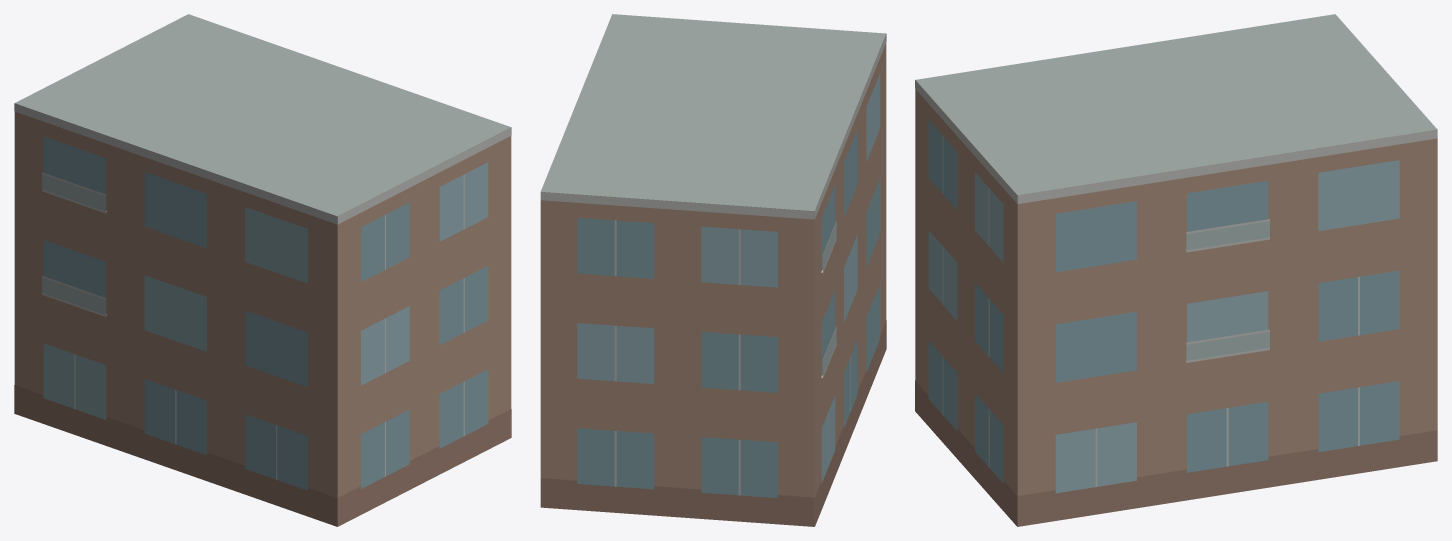
File: survey-upis-32714238.glb
3 renders of one model, left to right at view 1: azimuth 30°, elevation 25°; view 2: azimuth 150°, elevation 25°; view 3: azimuth 270°, elevation 25°, orthographic. The views are drawn at different scales.
Visible parts, largest first — view 1: survey-upis-32714238.tmp; view 2: survey-upis-32714238.tmp; view 3: survey-upis-32714238.tmp.
Boxes of the visible parts, left/top/right/bottom form: survey-upis-32714238.tmp: left=14, top=14, right=511, bottom=526; survey-upis-32714238.tmp: left=540, top=14, right=886, bottom=526; survey-upis-32714238.tmp: left=915, top=14, right=1437, bottom=526.
Size of the model in its own units: 10.75 by 9.15 by 13.08.
